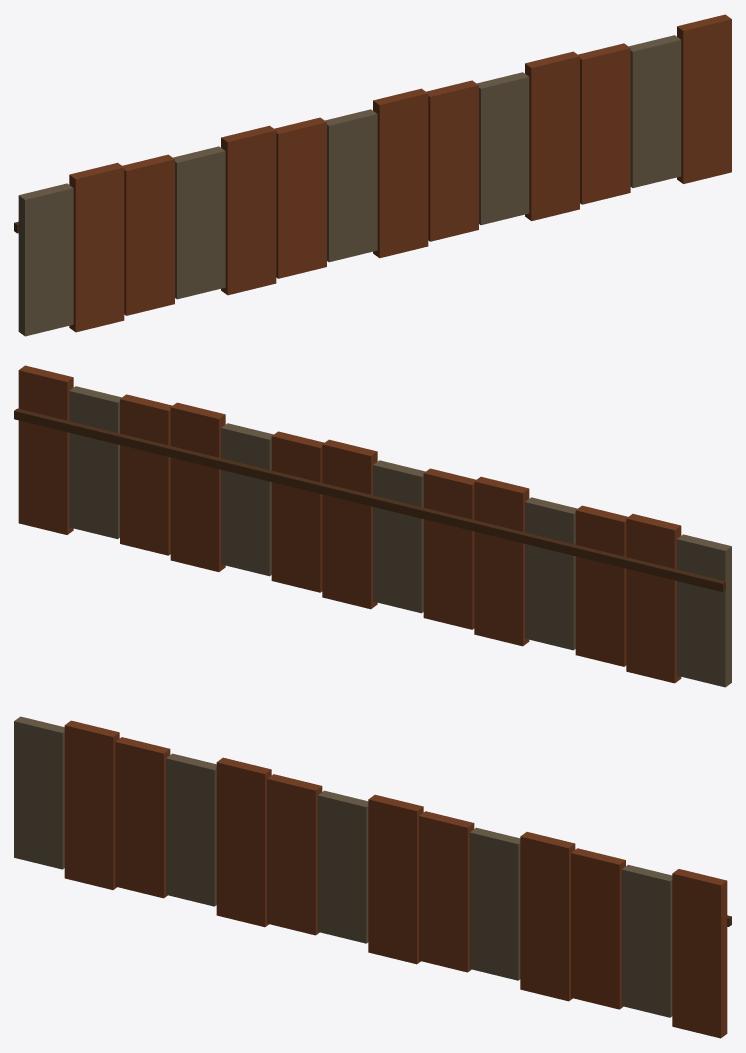
Rendered from ratfolk_wall_broken.glb.
3 renders of one model, top to bottom at view 1: azimuth 30°, elevation 25°; view 2: azimuth 150°, elevation 25°; view 3: azimuth 330°, elevation 25°, orthographic.
Visible parts, largest first — view 1: ratfolk_wall_piece3, ratfolk_wall_piece8, ratfolk_wall_piece2, ratfolk_wall_piece1, ratfolk_wall_piece9, ratfolk_wall_piece10, ratfolk_wall_piece5, ratfolk_wall_piece6, ratfolk_wall_piece7, ratfolk_wall_piece11, ratfolk_wall_piece0, ratfolk_wall_piece13 (+2 smaller); view 2: ratfolk_wall_piece3, ratfolk_wall_piece2, ratfolk_wall_piece8, ratfolk_wall_piece1, ratfolk_wall_piece7, ratfolk_wall_piece0, ratfolk_wall_piece9, ratfolk_wall_piece4, ratfolk_wall_piece13, ratfolk_wall_piece11, ratfolk_wall_piece5, ratfolk_wall_piece10 (+2 smaller); view 3: ratfolk_wall_piece8, ratfolk_wall_piece3, ratfolk_wall_piece2, ratfolk_wall_piece1, ratfolk_wall_piece9, ratfolk_wall_piece10, ratfolk_wall_piece5, ratfolk_wall_piece6, ratfolk_wall_piece7, ratfolk_wall_piece11, ratfolk_wall_piece0, ratfolk_wall_piece13 (+2 smaller).
Part boxes in pixels (x1=…): ratfolk_wall_piece3: x1=14, y1=189, x2=167, y2=336; ratfolk_wall_piece8: x1=624, y1=14, x2=731, y2=182; ratfolk_wall_piece2: x1=221, y1=97, x2=407, y2=217; ratfolk_wall_piece1: x1=221, y1=161, x2=399, y2=292; ratfolk_wall_piece9: x1=167, y1=141, x2=258, y2=305; ratfolk_wall_piece10: x1=67, y1=151, x2=203, y2=259; ratfolk_wall_piece5: x1=463, y1=43, x2=642, y2=129; ratfolk_wall_piece6: x1=478, y1=75, x2=629, y2=195; ratfolk_wall_piece7: x1=559, y1=87, x2=688, y2=214; ratfolk_wall_piece11: x1=385, y1=82, x2=507, y2=173; ratfolk_wall_piece0: x1=408, y1=147, x2=484, y2=249; ratfolk_wall_piece13: x1=469, y1=140, x2=568, y2=224; ratfolk_wall_piece3: x1=584, y1=540, x2=731, y2=687; ratfolk_wall_piece2: x1=354, y1=446, x2=528, y2=566; ratfolk_wall_piece8: x1=14, y1=365, x2=113, y2=528; ratfolk_wall_piece1: x1=364, y1=516, x2=523, y2=646; ratfolk_wall_piece7: x1=41, y1=423, x2=184, y2=563; ratfolk_wall_piece0: x1=254, y1=490, x2=352, y2=602; ratfolk_wall_piece9: x1=503, y1=488, x2=581, y2=656; ratfolk_wall_piece4: x1=566, y1=529, x2=706, y2=656; ratfolk_wall_piece13: x1=164, y1=477, x2=271, y2=572; ratfolk_wall_piece11: x1=234, y1=435, x2=358, y2=525; ratfolk_wall_piece5: x1=102, y1=394, x2=293, y2=474; ratfolk_wall_piece10: x1=545, y1=502, x2=688, y2=593; ratfolk_wall_piece8: x1=612, y1=868, x2=731, y2=1038; ratfolk_wall_piece3: x1=14, y1=716, x2=156, y2=896; ratfolk_wall_piece2: x1=217, y1=757, x2=395, y2=894; ratfolk_wall_piece1: x1=226, y1=797, x2=387, y2=957; ratfolk_wall_piece9: x1=156, y1=760, x2=247, y2=917; ratfolk_wall_piece10: x1=56, y1=721, x2=200, y2=855; ratfolk_wall_piece5: x1=452, y1=821, x2=643, y2=891; ratfolk_wall_piece6: x1=467, y1=885, x2=621, y2=981; ratfolk_wall_piece7: x1=548, y1=900, x2=677, y2=1027; ratfolk_wall_piece11: x1=387, y1=797, x2=496, y2=886; ratfolk_wall_piece0: x1=396, y1=881, x2=472, y2=972; ratfolk_wall_piece13: x1=458, y1=883, x2=557, y2=996.
Size of the model in its own units: 6.25 by 1.29 by 0.155.
